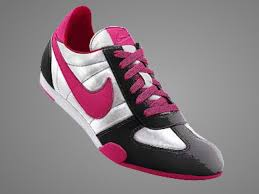nike: (53, 41, 115, 119)
